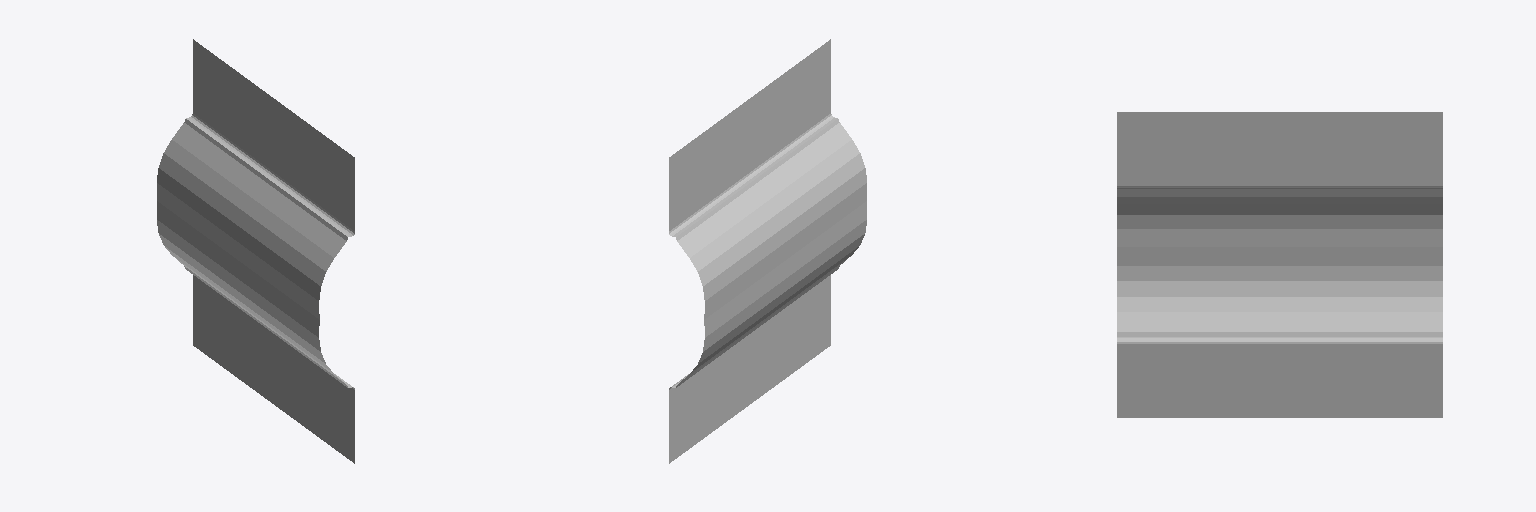
Rendered from pared_1.obj.
The picture shows the model from 3 angles: view 1: azimuth 30°, elevation 25°; view 2: azimuth 150°, elevation 25°; view 3: azimuth 270°, elevation 25°; orthographic projection.
Visible parts, largest first — view 1: polySurface4 pared_low1; view 2: polySurface4 pared_low1; view 3: polySurface4 pared_low1.
Boxes of the visible parts, x1=… form: polySurface4 pared_low1: x1=157, y1=39, x2=354, y2=463; polySurface4 pared_low1: x1=669, y1=39, x2=866, y2=463; polySurface4 pared_low1: x1=1117, y1=112, x2=1442, y2=417.
Bounding box in the file's own units: 0.6382 × 5.18 × 4.99.